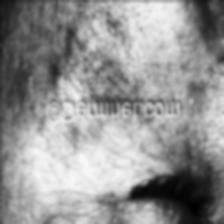Non-Cancerous Skin Condition: (53, 0, 131, 97)
